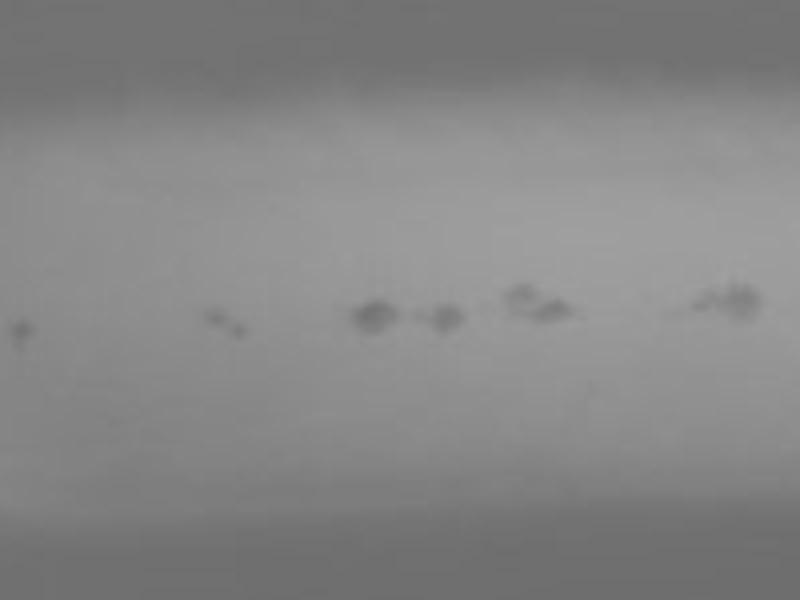defect: (715, 279, 760, 324), (347, 300, 399, 334), (428, 307, 465, 334), (529, 299, 571, 320), (501, 280, 534, 303), (687, 288, 713, 314), (9, 319, 34, 340), (229, 321, 251, 341), (201, 303, 226, 320), (408, 308, 425, 325)
